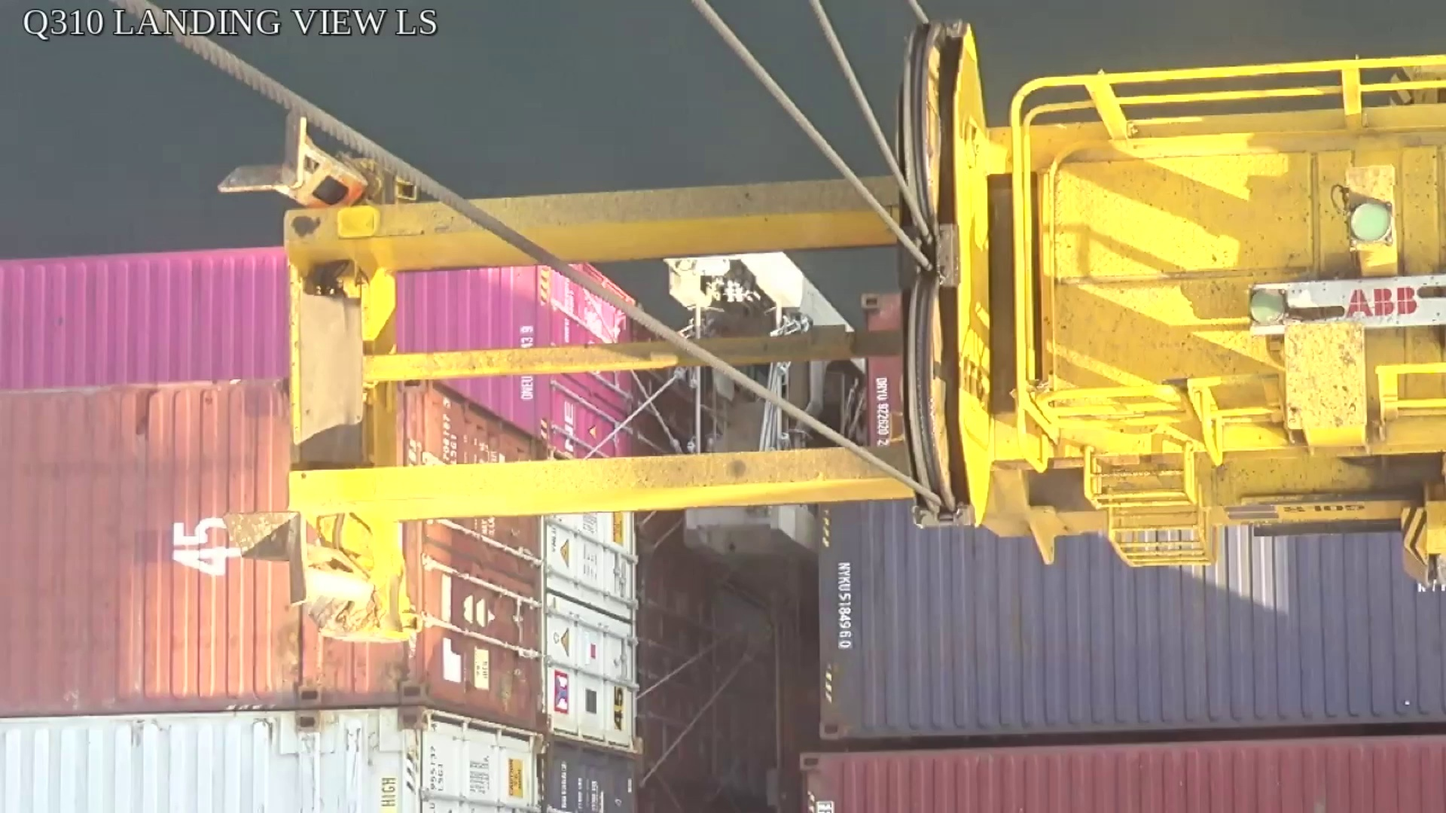aa: (895, 20, 997, 535)
